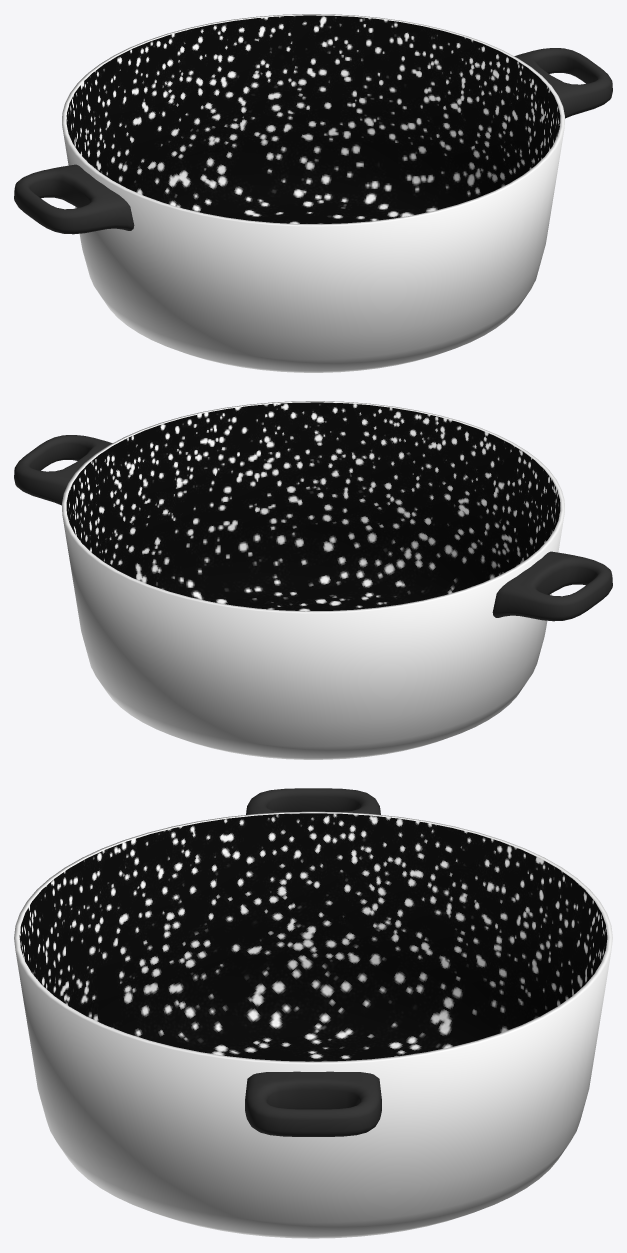
File: pan_2.glb
3 renders of one model, top to bottom at view 1: azimuth 30°, elevation 25°; view 2: azimuth 150°, elevation 25°; view 3: azimuth 270°, elevation 25°, orthographic. The views are drawn at different scales.
Visible parts, largest first — view 1: Pan.002; view 2: Pan.002; view 3: Pan.002.
Part boxes in pixels (x1,y1,x2,y2): Pan.002: [14, 14, 612, 372]; Pan.002: [14, 401, 612, 759]; Pan.002: [14, 788, 612, 1238].
Size of the model in its own units: 0.2674 by 0.0773 by 0.2056.
3 materials, 1 textured.
